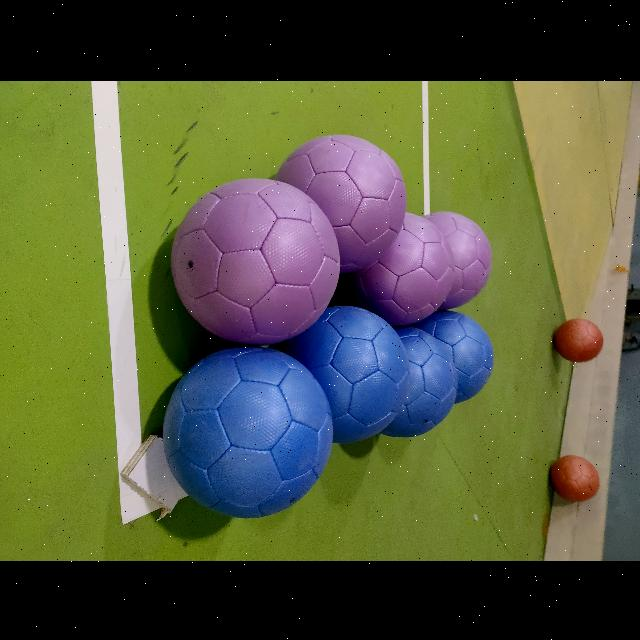B: (164, 347, 333, 518), (292, 304, 404, 434), (362, 322, 456, 431), (412, 310, 493, 402)
P: (172, 178, 340, 344), (262, 128, 408, 268), (340, 212, 456, 326), (410, 206, 496, 310)
R: (550, 454, 600, 500), (554, 318, 604, 362)
